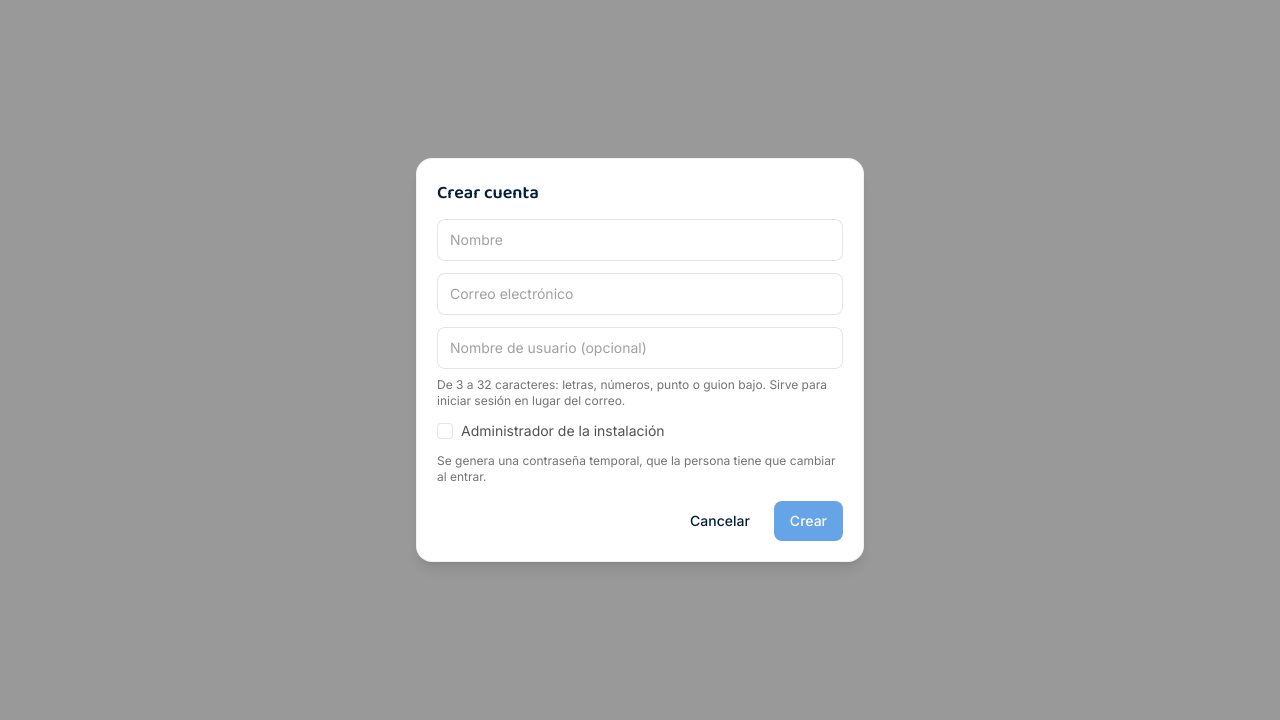
AdminUserFormModal › rejects an invalid email or a username with invalid characters
Type "Ana" into the field labelled "Nombre". click: (640, 240)
box: [437, 219, 843, 261]
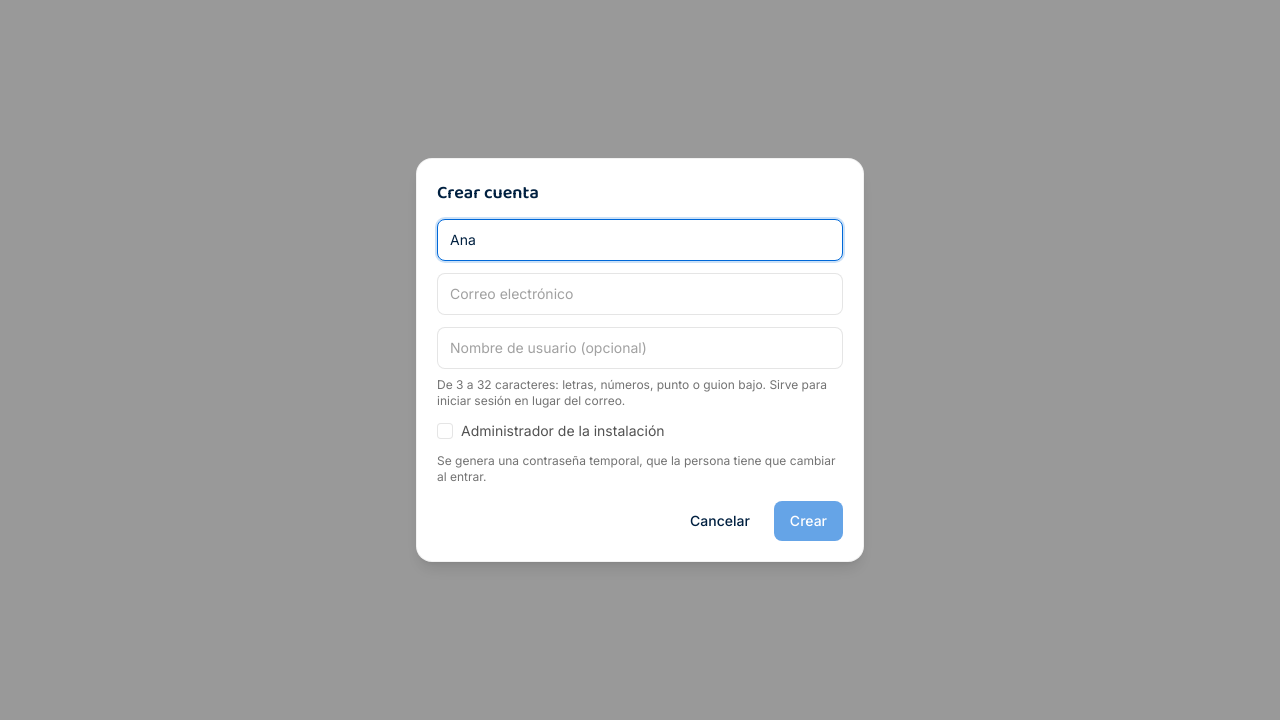
Type "ana@" into the field labelled "Correo electrónico". click: (640, 294)
box: [437, 273, 843, 315]
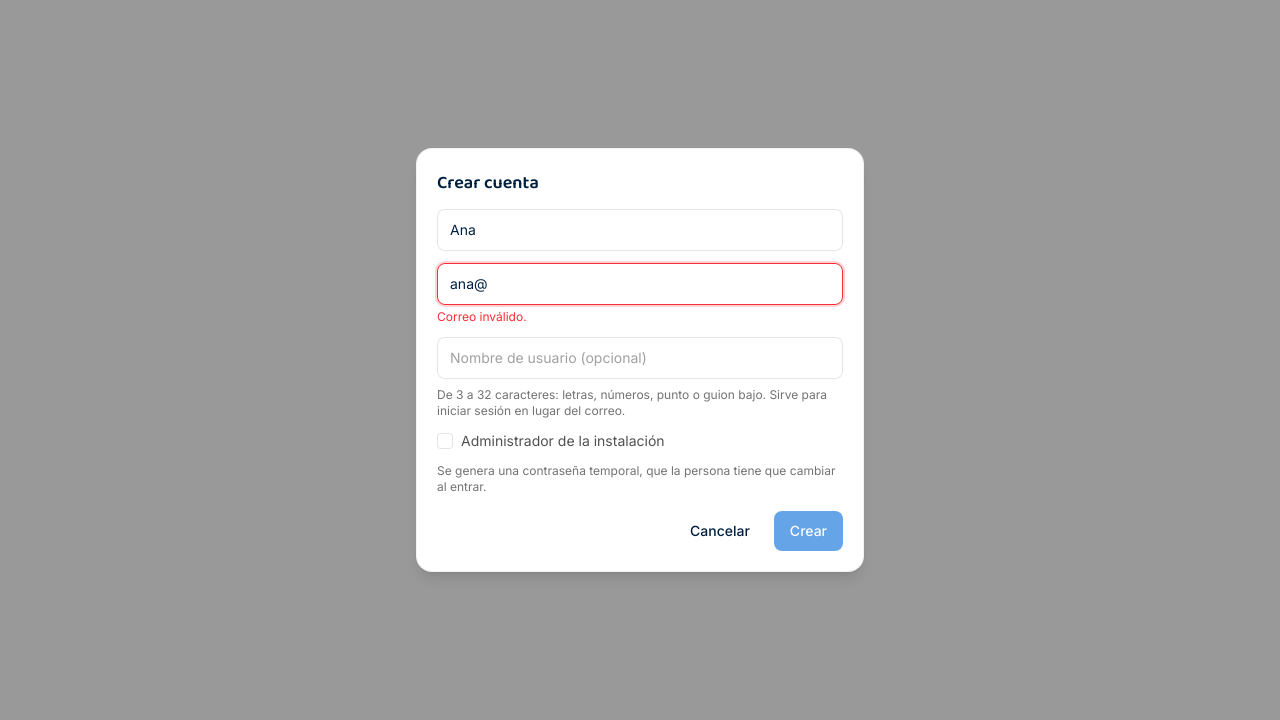
Check: the button "Crear" is disabled, box [774, 511, 843, 551]
Check: the text "Correo inválido." is shown, box [437, 309, 527, 324]
Clear the field named "Correo electrónico". click: (640, 284)
box: [437, 263, 843, 305]
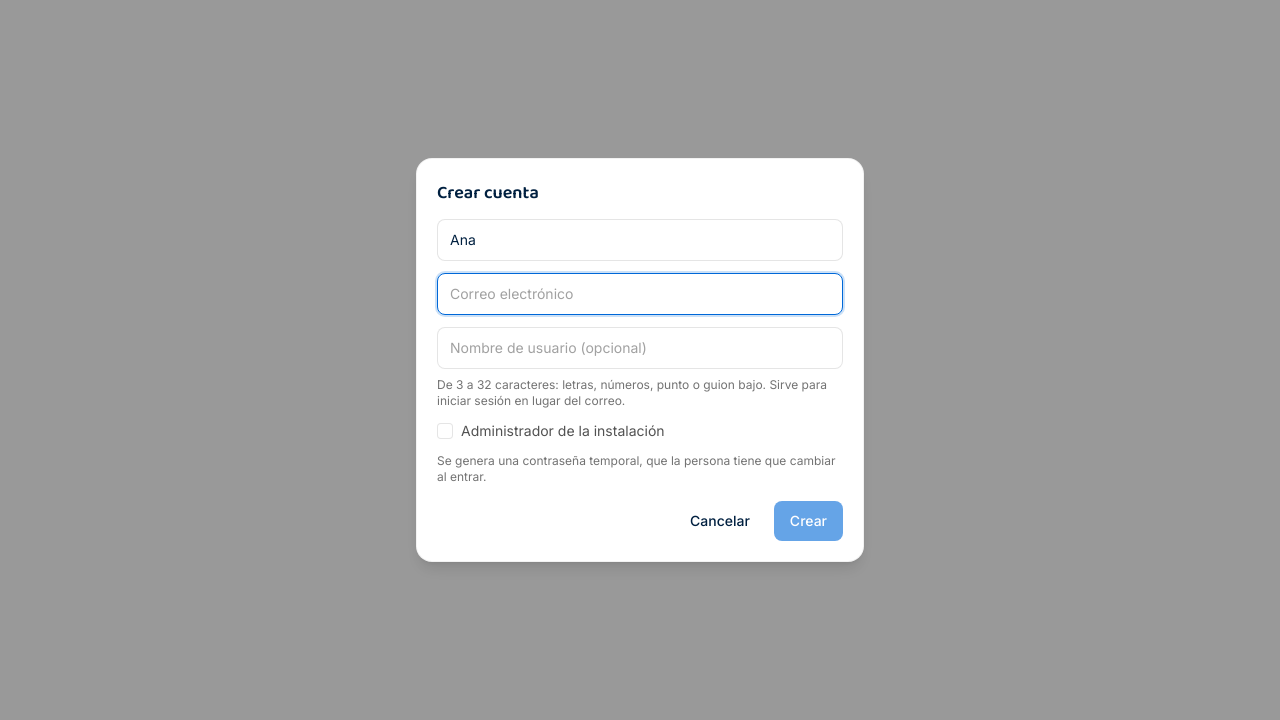
Type "ana@example.com" into the field labelled "Correo electrónico". click: (640, 294)
box: [437, 273, 843, 315]
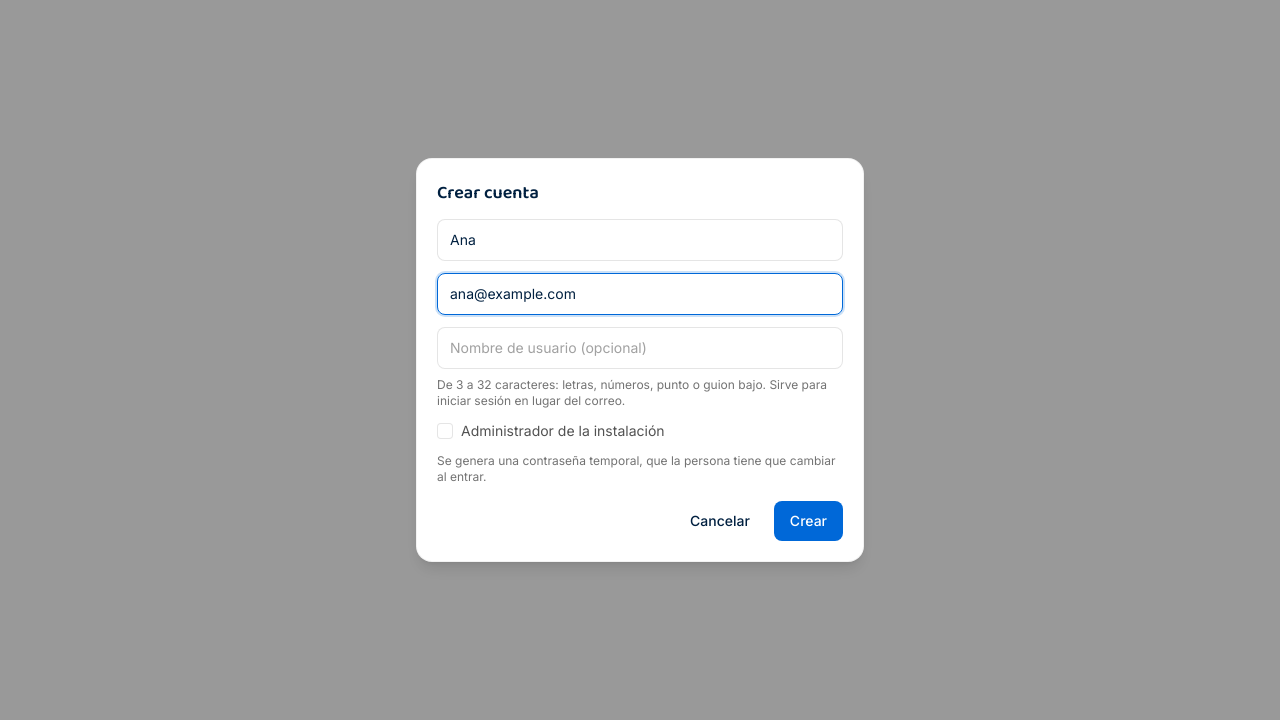
Type "ana@ruiz" into the field labelled "Nombre de usuario (opcional)". click: (640, 348)
box: [437, 327, 843, 369]
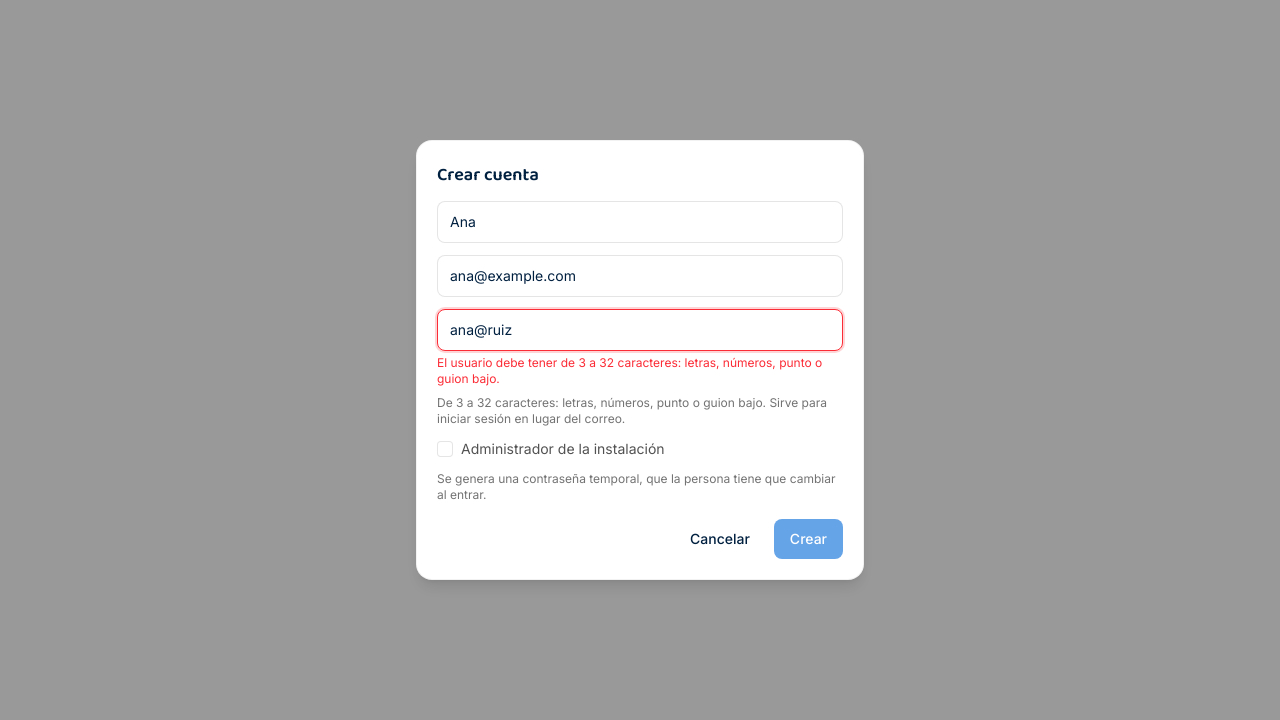
Check: the text "El usuario debe tener de 3 a 32 caracteres" is shown, box [437, 355, 822, 386]
Check: the button "Crear" is disabled, box [774, 519, 843, 559]
